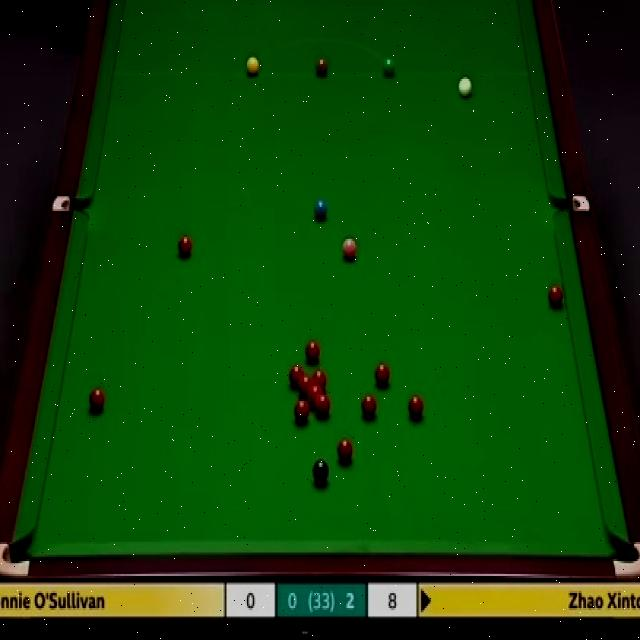black-ball: (312, 460, 330, 485)
blue-ball: (313, 196, 328, 223)
brown-ball: (314, 56, 328, 76)
green-ball: (382, 56, 396, 76)
pink-ball: (342, 239, 358, 262), (314, 340, 329, 359)
red-ball: (372, 362, 392, 386), (408, 392, 423, 423), (547, 284, 564, 310), (337, 439, 354, 465), (360, 393, 377, 419), (294, 398, 310, 423)
white-ball: (458, 74, 472, 100)
yellow-ball: (245, 56, 260, 76)
